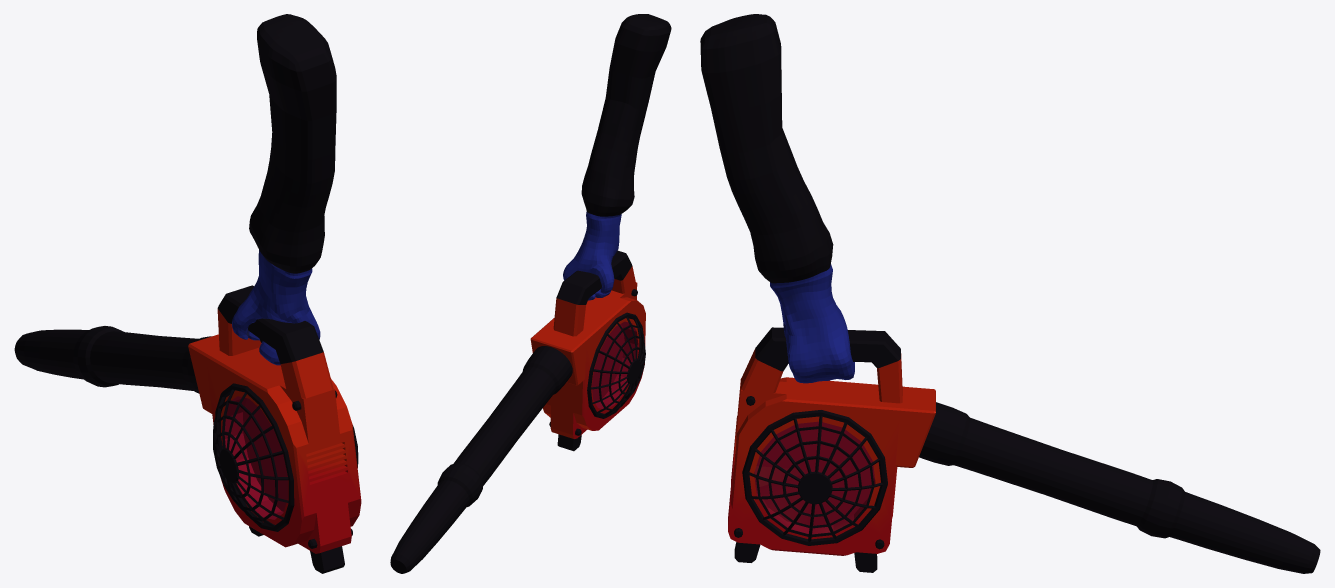
File: MS_Weapon_01.fbx
3 views of the same model, side by side, from view 1: azimuth 30°, elevation 25°; view 2: azimuth 150°, elevation 25°; view 3: azimuth 270°, elevation 25° (orthographic). The views are drawn at different scales.
Parts seen in each view (by area): view 1: MS_Weapon_01; view 2: MS_Weapon_01; view 3: MS_Weapon_01.
Part boxes in pixels (x1,y1,x2,y2): MS_Weapon_01: (14,14,361,573); MS_Weapon_01: (390,14,671,573); MS_Weapon_01: (700,14,1320,573).
Size of the model in its own units: 20.08 by 91.59 by 96.16.
